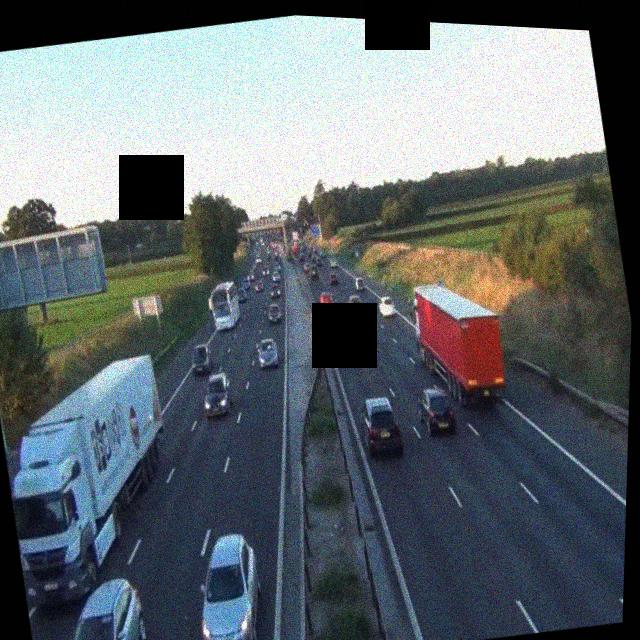bus: (206, 278, 246, 332)
car: (185, 528, 273, 640), (47, 571, 157, 640), (357, 393, 405, 459), (414, 383, 458, 438), (198, 367, 237, 420), (187, 342, 215, 378), (335, 325, 363, 360), (255, 336, 280, 369), (376, 294, 397, 319), (347, 292, 364, 315), (267, 302, 282, 325), (318, 289, 334, 310), (354, 274, 367, 292), (327, 268, 340, 285), (307, 262, 319, 278), (272, 266, 282, 282), (328, 256, 338, 269)
truck: (0, 344, 194, 615), (405, 272, 513, 414)
